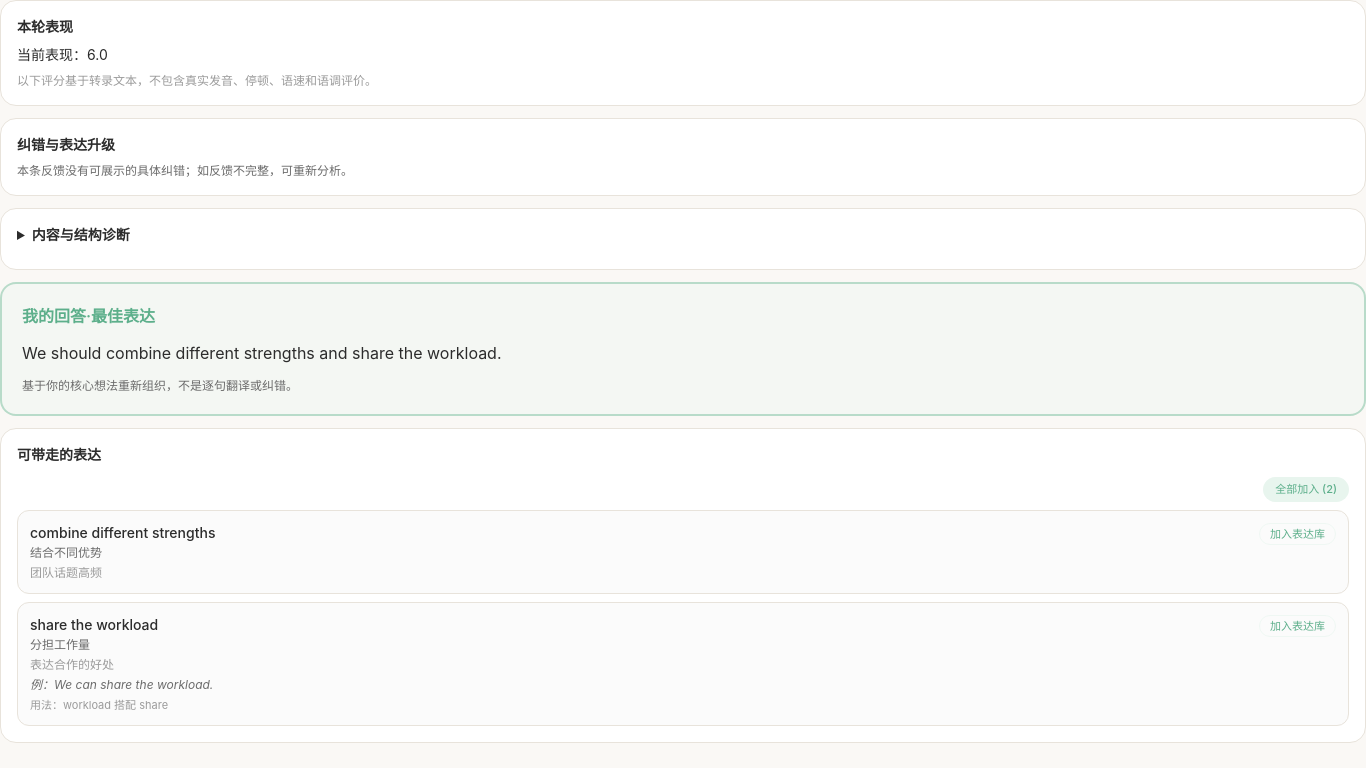
Test: takeaway → expression bank add flow › adds each takeaway item and shows per-item success
Expected: the button "全部加入 (2)" is shown, x1=1263 y1=477 x2=1349 y2=502
Click the 1st button "加入表达库".
click(1298, 534)  # box x1=1259 y1=522 x2=1336 y2=545
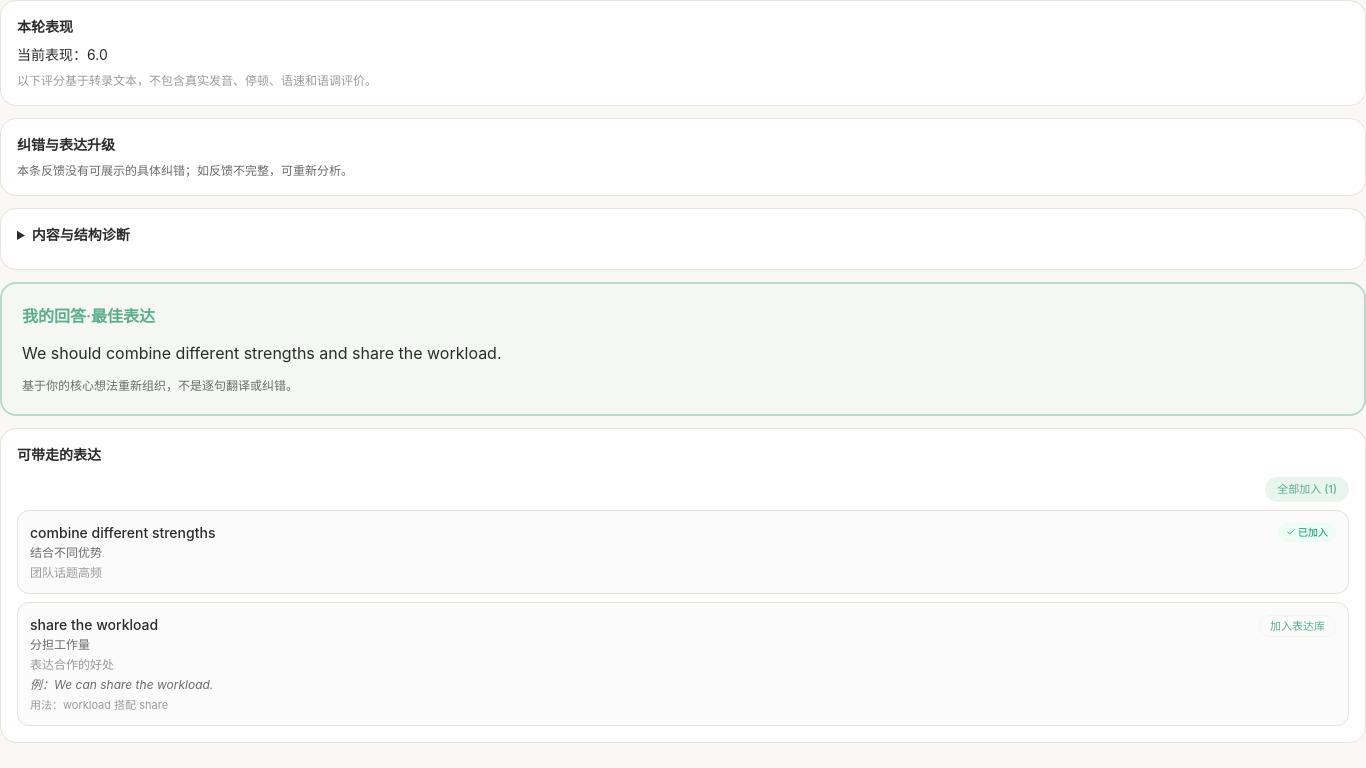
Expected: the number of buttons "加入表达库" is 1, x1=1259 y1=614 x2=1336 y2=637
Expected: the text "已加入" is shown, x1=1278 y1=522 x2=1336 y2=542
Expected: the button "全部加入 (1)" is shown, x1=1265 y1=477 x2=1349 y2=502
